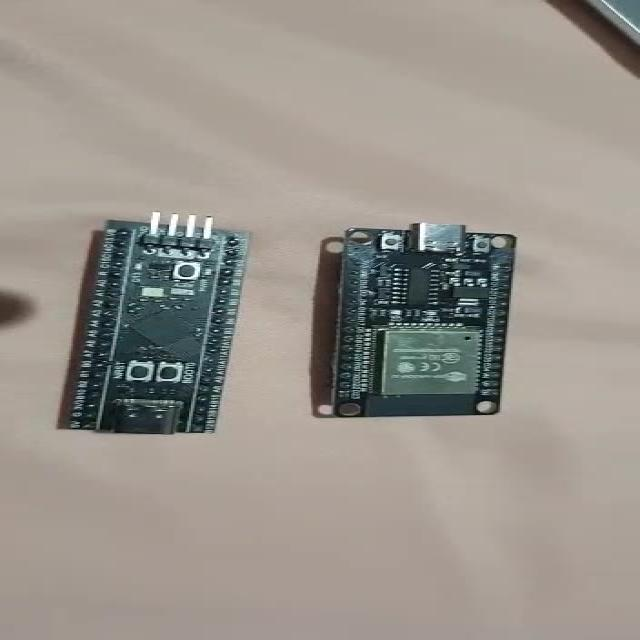ESP32: (329, 224, 516, 419)
STM32: (60, 214, 248, 435)
